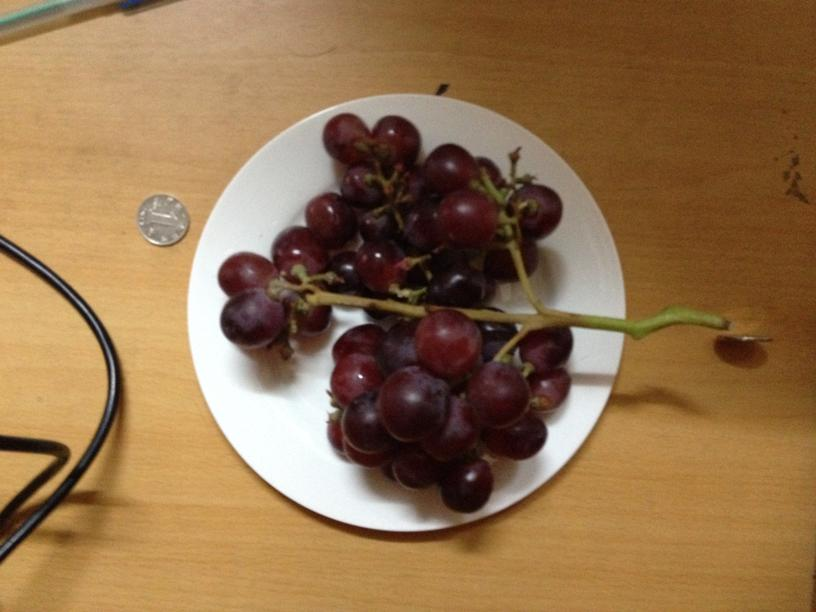coin: (137, 194, 188, 247)
grape: (210, 109, 578, 511)
